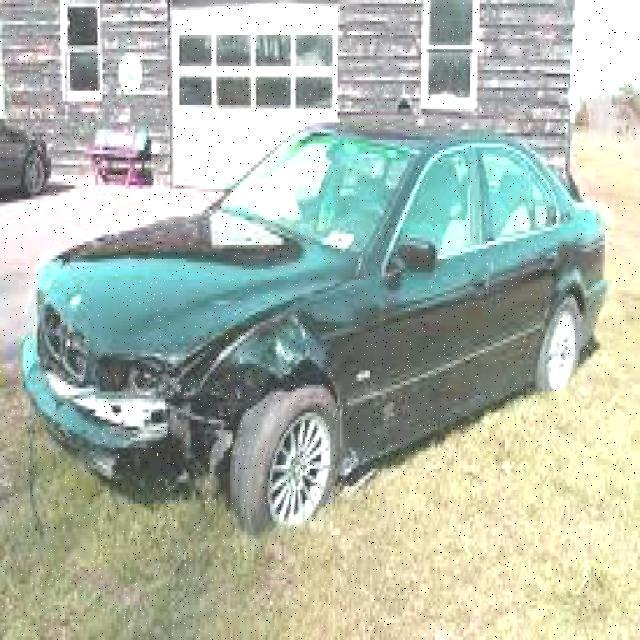car damage: (17, 274, 341, 501)
